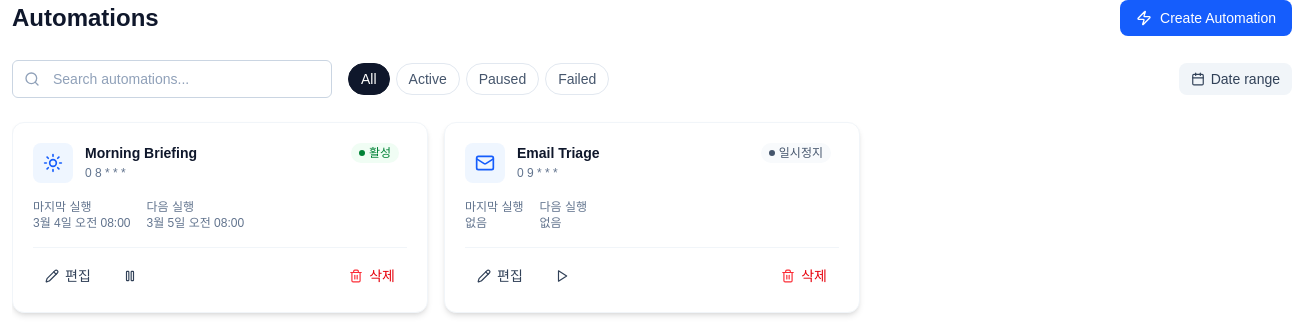
Test: AutomationsPage — TC-3006, TC-3007 › FilterBar status filter: clicking 'Paused' shows only paused automations
Expected: the text "Morning Briefing" is shown, [85, 145, 197, 161]
Click 'Paused' filter
Click the radio button labelled "Paused".
click(502, 79)  # box [466, 63, 539, 95]
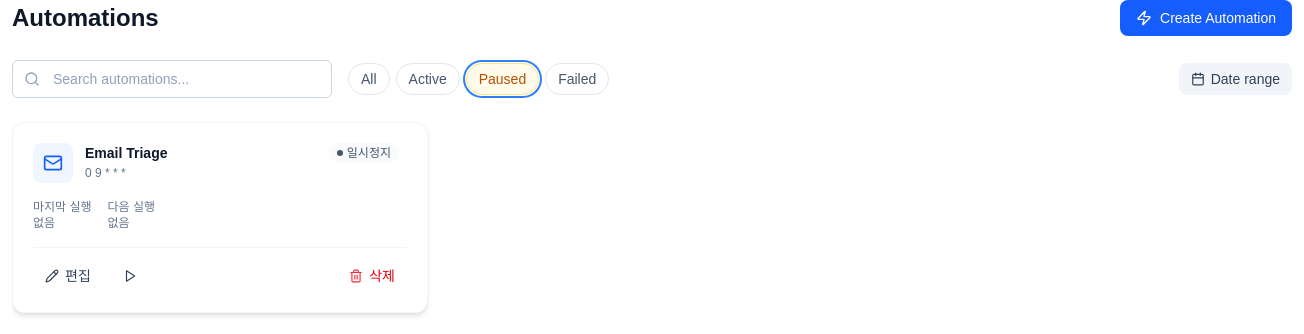
Expected: the text "Email Triage" is shown, [85, 145, 168, 161]
Result: the button "Morning Briefing" is gone
